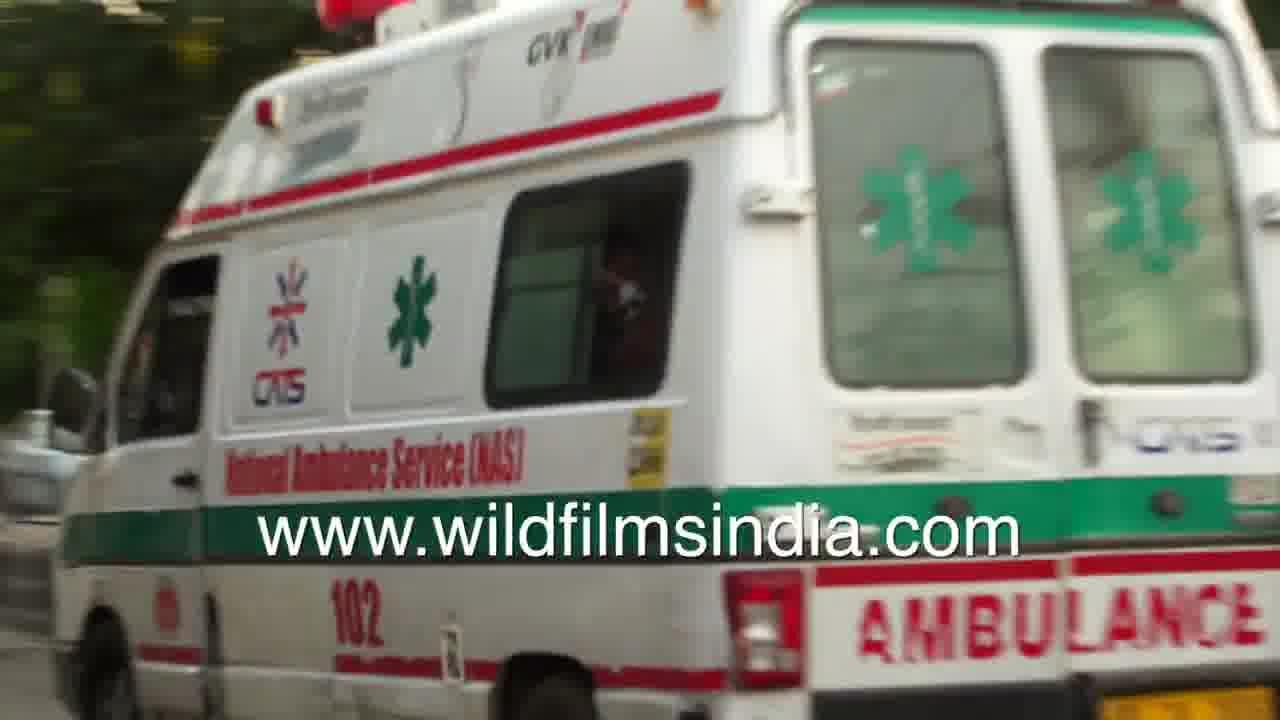AMBULANCE: (103, 1, 1280, 505), (46, 571, 1280, 720)
